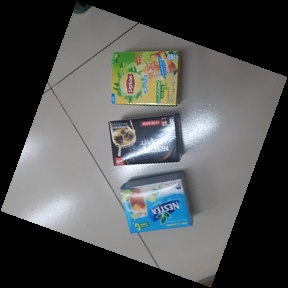CF Viet: (108, 113, 183, 166)
LipTon: (112, 49, 182, 106)
Nestea: (119, 171, 193, 233)
